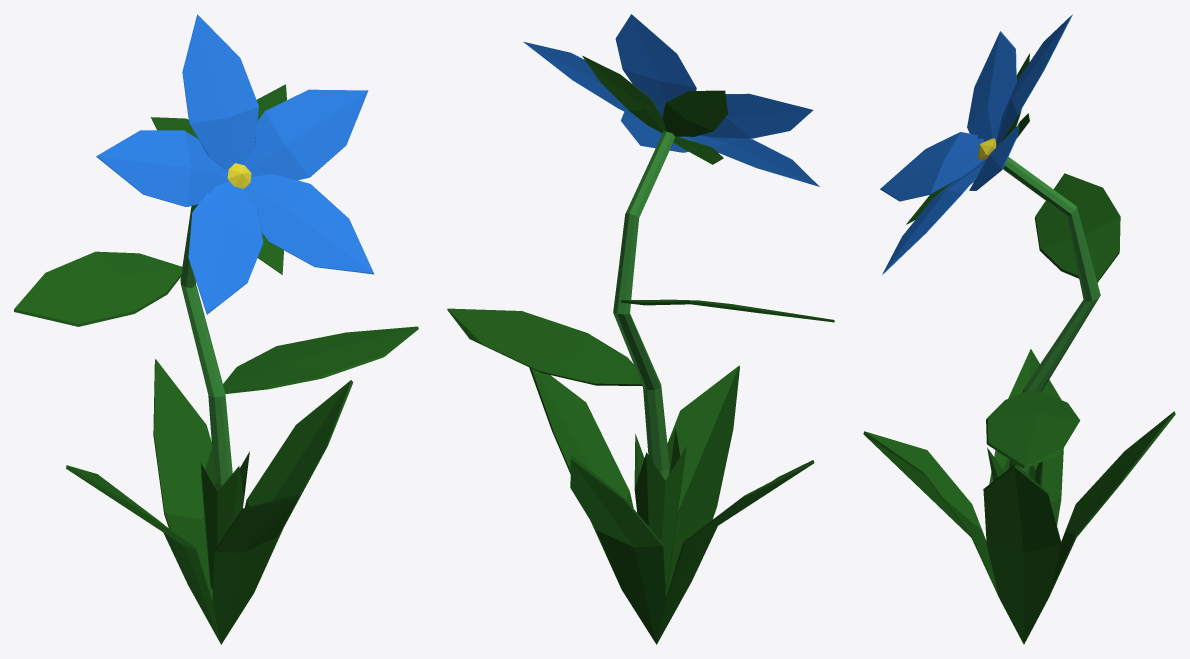
Rendered from Flower 1.1.fbx.
3 views of the same model, side by side, from view 1: azimuth 30°, elevation 25°; view 2: azimuth 150°, elevation 25°; view 3: azimuth 270°, elevation 25° (orthographic). The views are drawn at different scales.
Visible parts, largest first — view 1: Flower 1.1; view 2: Flower 1.1; view 3: Flower 1.1.
Boxes of the visible parts, left/top/right/bottom form: Flower 1.1: left=14, top=14, right=418, bottom=644; Flower 1.1: left=447, top=14, right=834, bottom=644; Flower 1.1: left=863, top=14, right=1175, bottom=644.
Size of the model in its own units: 59.15 by 89.98 by 40.38.
